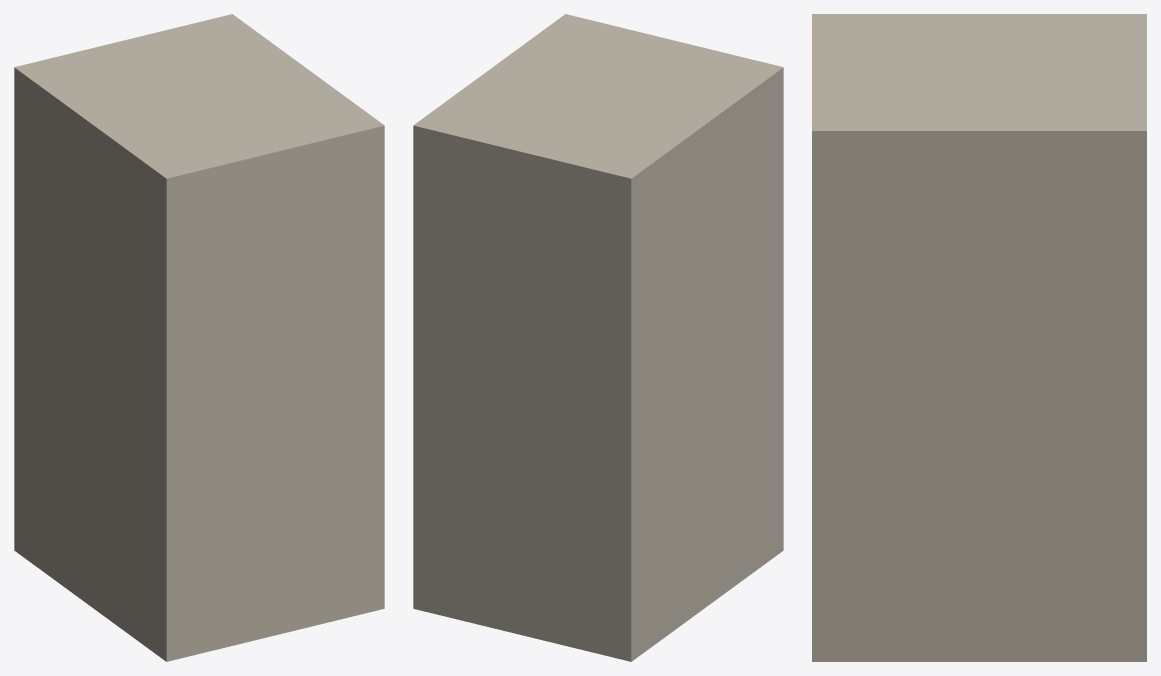
The model's file is ikea-ingolf-70340808-g2-proxy.glb.
The picture shows the model from 3 angles, left to right: view 1: azimuth 30°, elevation 25°; view 2: azimuth 150°, elevation 25°; view 3: azimuth 270°, elevation 25°; orthographic projection. The views are drawn at different scales.
Parts seen in each view (by area): view 1: proxy_body; view 2: proxy_body; view 3: proxy_body.
Part boxes in pixels (bbox=[...]): proxy_body: bbox=[14, 14, 384, 661]; proxy_body: bbox=[413, 14, 783, 661]; proxy_body: bbox=[812, 14, 1146, 661].
Size of the model in its own units: 0.43 by 0.91 by 0.52.
